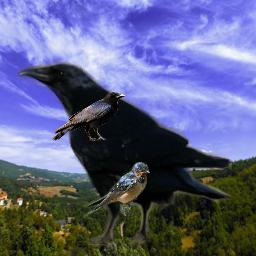Crow: (17, 60, 232, 255), (52, 91, 125, 141)
Swallow: (83, 162, 150, 218)
